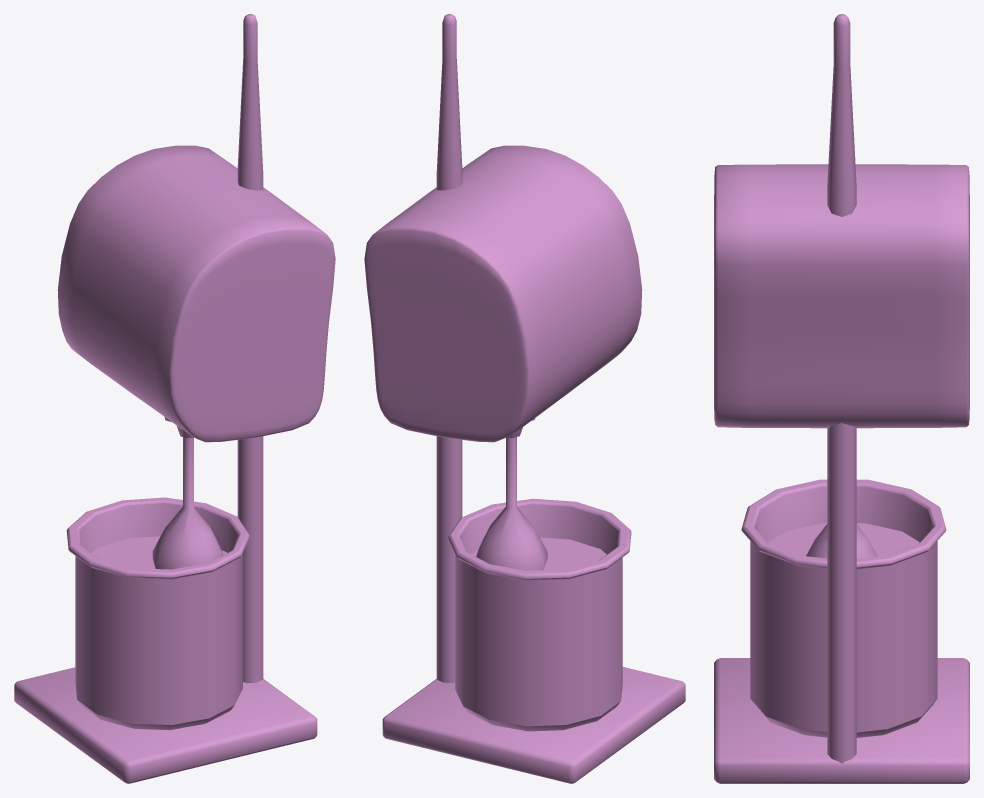
File: test_anim.FBX
3 views of the same model, side by side, from view 1: azimuth 30°, elevation 25°; view 2: azimuth 150°, elevation 25°; view 3: azimuth 270°, elevation 25° (orthographic). The views are drawn at different scales.
Visible parts, largest first — view 1: cuadrado_low, proveta4_low, tabla_low, bara_low, batidora_low, liquidillo1_low; view 2: cuadrado_low, proveta4_low, tabla_low, bara_low, batidora_low, liquidillo1_low; view 3: cuadrado_low, proveta4_low, tabla_low, bara_low, liquidillo1_low, batidora_low.
Boxes of the visible parts, bbox=[...] form: cuadrado_low: bbox=[57, 145, 335, 442]; proveta4_low: bbox=[66, 497, 249, 730]; tabla_low: bbox=[14, 667, 317, 783]; bara_low: bbox=[237, 14, 263, 683]; batidora_low: bbox=[152, 437, 222, 569]; liquidillo1_low: bbox=[91, 536, 226, 568]; cuadrado_low: bbox=[364, 145, 642, 442]; proveta4_low: bbox=[448, 498, 631, 731]; tabla_low: bbox=[382, 667, 685, 783]; bara_low: bbox=[436, 14, 462, 683]; batidora_low: bbox=[476, 437, 547, 570]; liquidillo1_low: bbox=[471, 537, 606, 570]; cuadrado_low: bbox=[714, 164, 969, 428]; proveta4_low: bbox=[741, 479, 946, 737]; tabla_low: bbox=[714, 658, 969, 783]; bara_low: bbox=[827, 14, 856, 763]; liquidillo1_low: bbox=[768, 523, 919, 556]; batidora_low: bbox=[806, 524, 877, 558].
Bounding box in the file's own units: 11.36 × 35.17 × 10.66.
